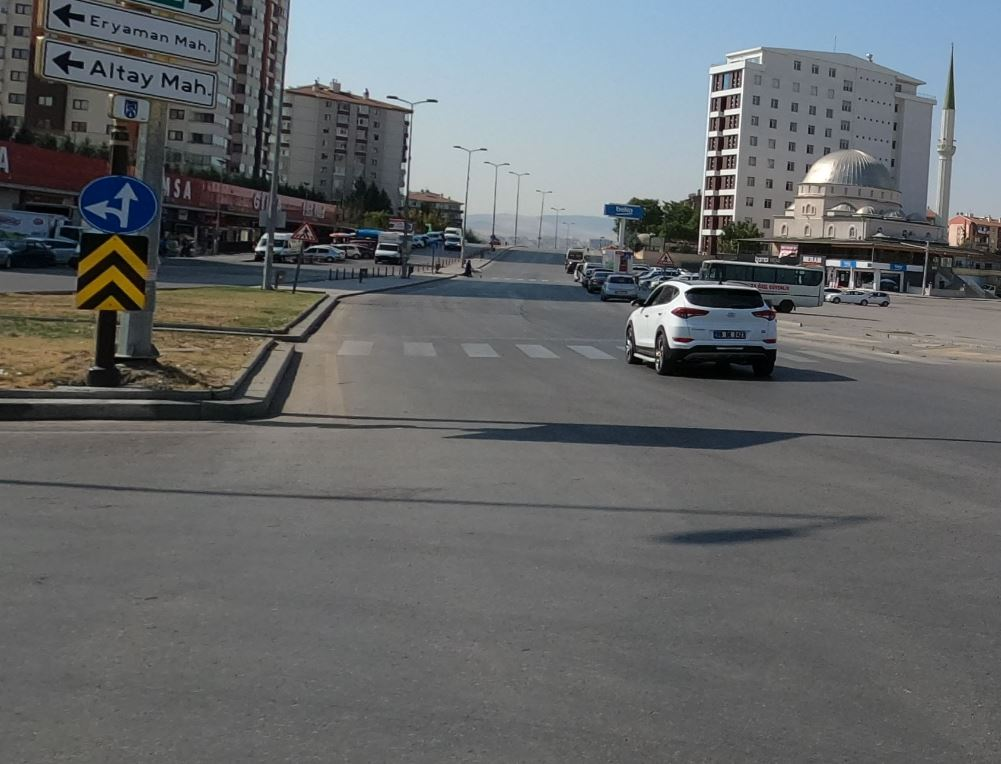ileri ve Sola Mecburi Don: (81, 163, 163, 236)
